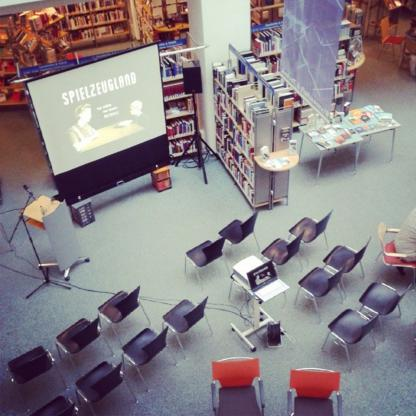book: (0, 0, 137, 101), (216, 43, 292, 204), (254, 21, 358, 86), (152, 43, 202, 158), (300, 109, 356, 150), (340, 100, 398, 133)
